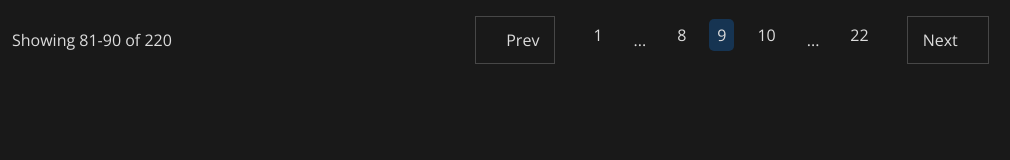
Test: jumping to a page from an ellipsis › does not navigate for zero
Click the button named "Jump to page": point(640, 40) [626,24,654,56]
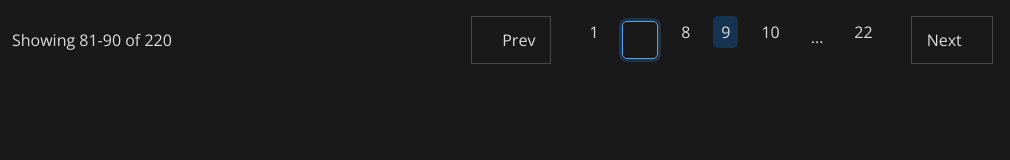
In the field named "Go to page (1-22)": point(640, 40) [622,21,658,59], type "0"
Then press Enter
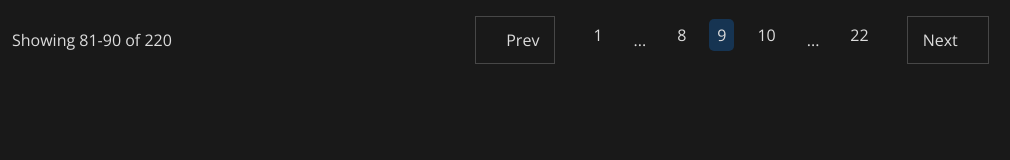
Result: the number of buttons named "Jump to page" is 2 at [626,24,654,56]; [799,24,827,56]
